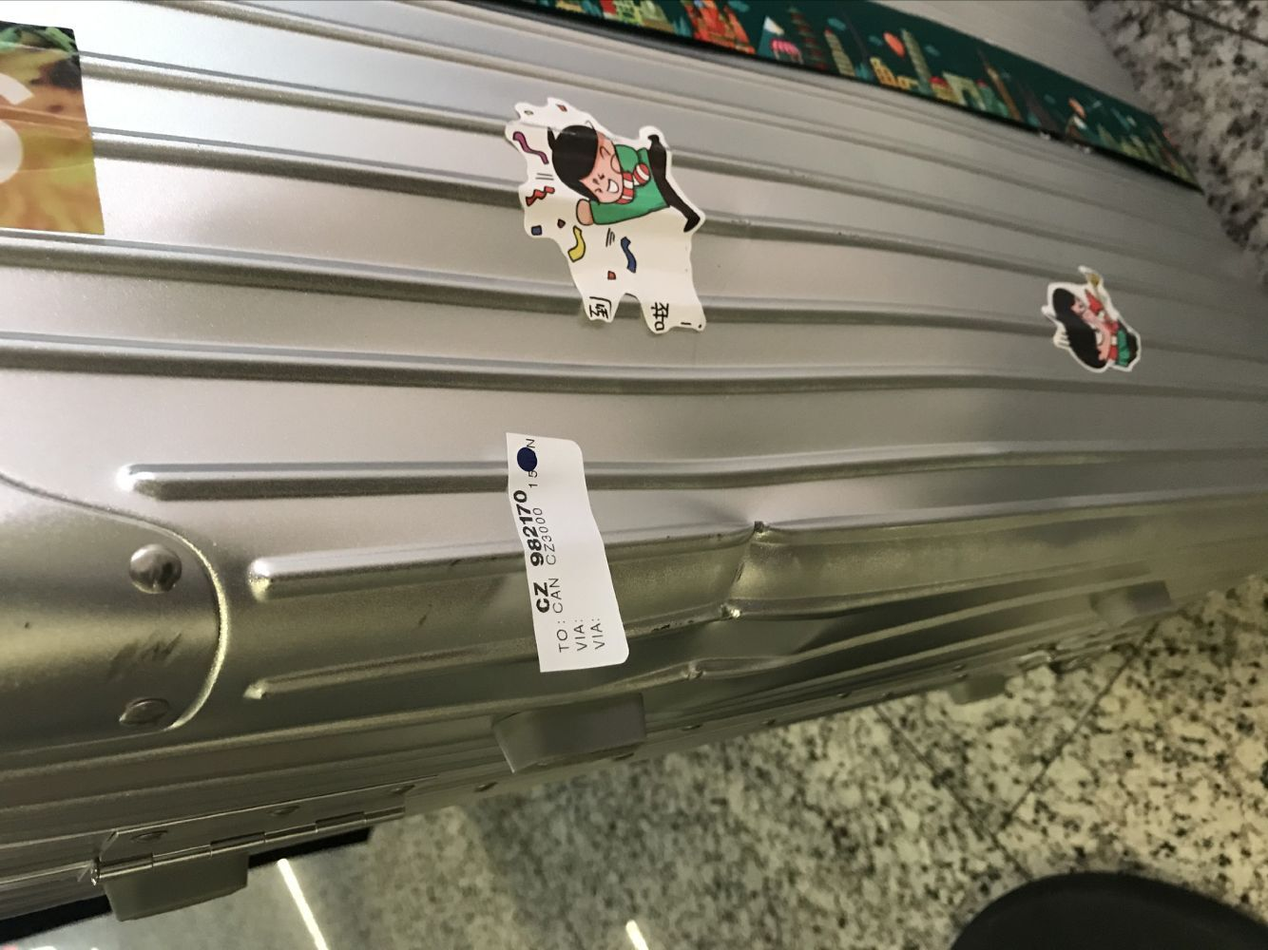rupture: (634, 488, 825, 702)
